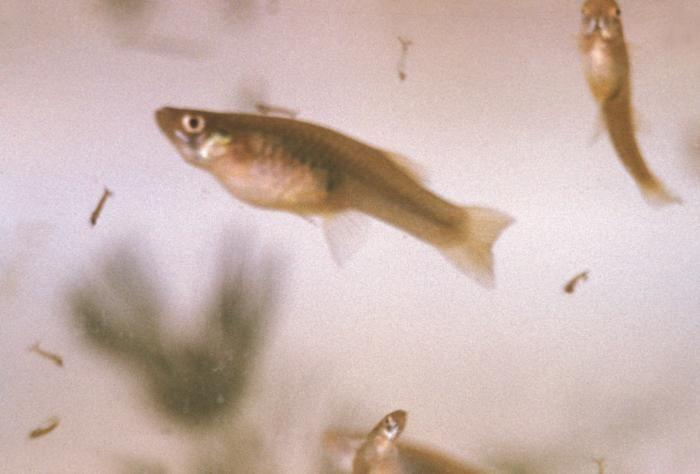Mosquito Fish: (155, 95, 519, 296), (560, 0, 683, 234), (345, 404, 413, 474)
